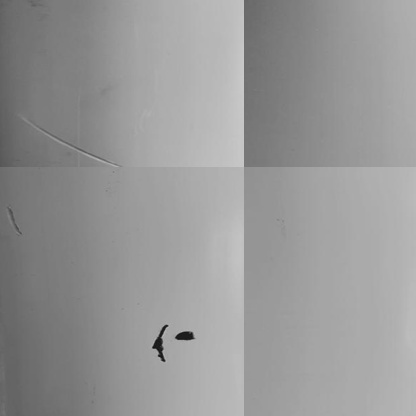fengxi: (1, 204, 25, 237)
kongdong: (149, 319, 167, 361), (174, 325, 198, 344)
sunshang: (22, 112, 126, 168)
